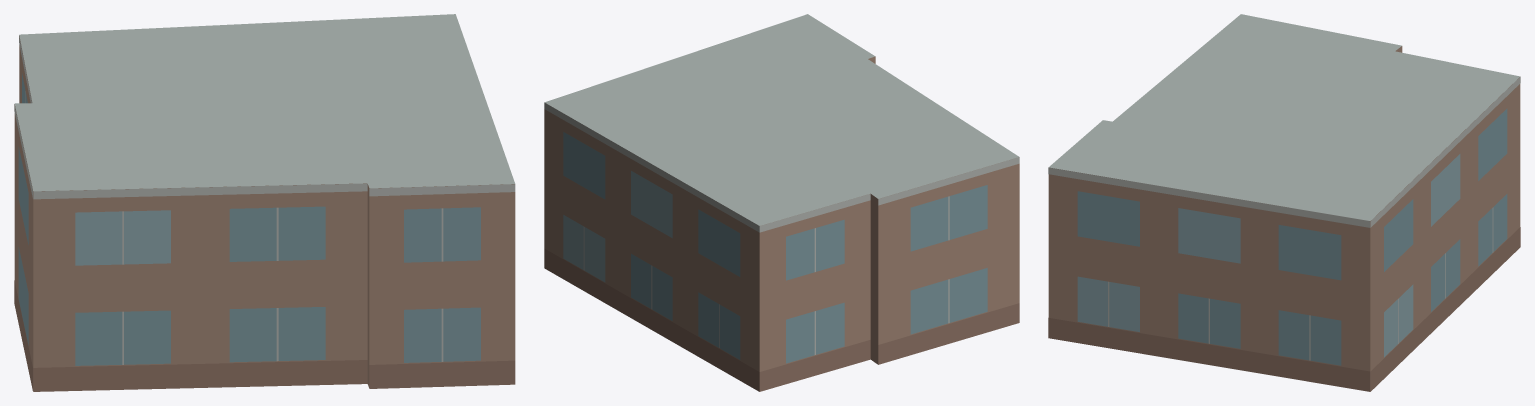
Rendered from survey-upis-32808211.glb.
The picture shows the model from 3 angles, left to right: view 1: azimuth 30°, elevation 25°; view 2: azimuth 150°, elevation 25°; view 3: azimuth 270°, elevation 25°; orthographic projection. The views are drawn at different scales.
Parts seen in each view (by area): view 1: survey-upis-32808211.tmp; view 2: survey-upis-32808211.tmp; view 3: survey-upis-32808211.tmp.
Boxes of the visible parts, x1,y1,x2,y2 form: survey-upis-32808211.tmp: (14, 14, 515, 391); survey-upis-32808211.tmp: (544, 14, 1019, 391); survey-upis-32808211.tmp: (1048, 14, 1520, 391).
Size of the model in its own units: 15.88 by 6.1 by 15.29.
